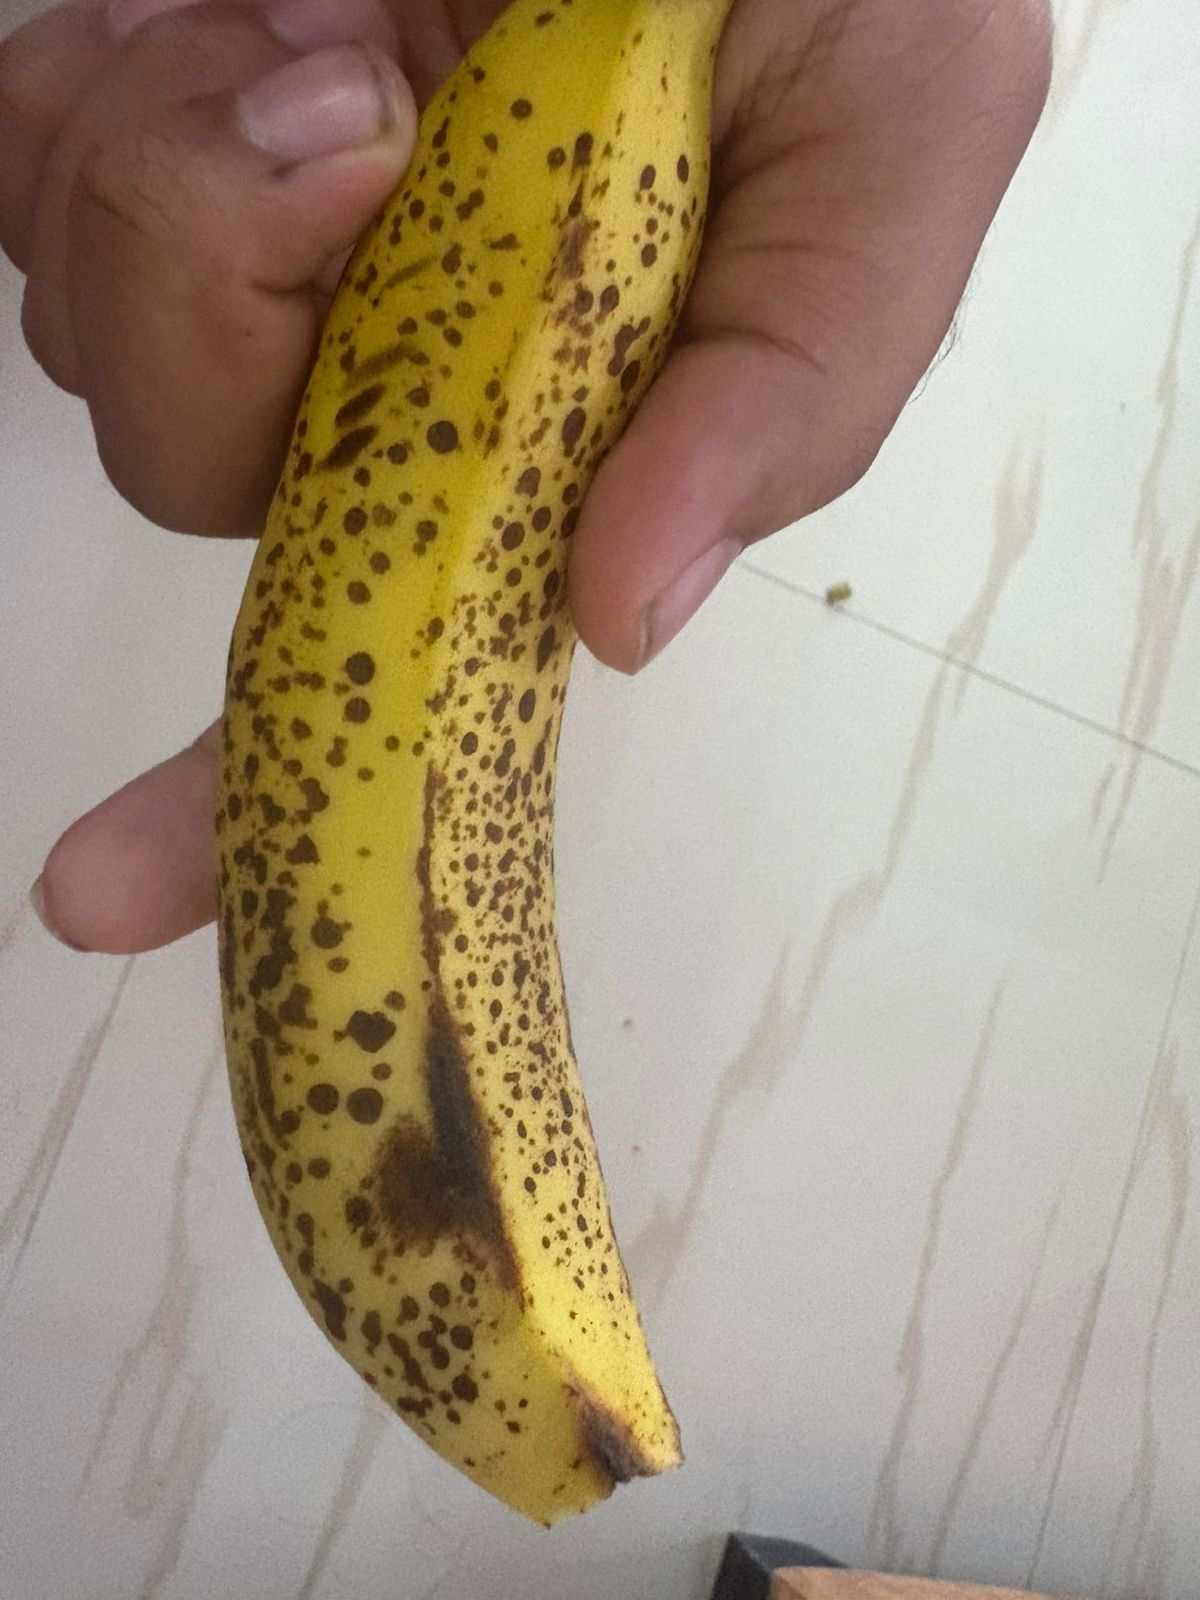wet: (213, 20, 746, 1517)
